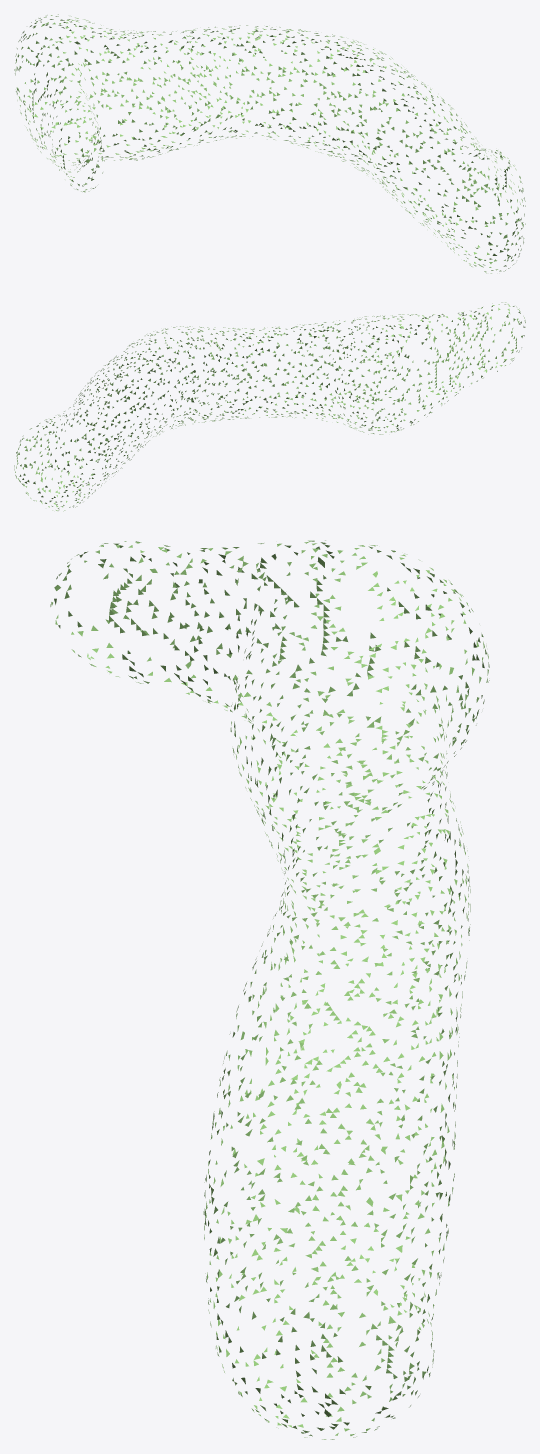
The model's file is morph_014.glb.
3 renders of one model, top to bottom at view 1: azimuth 30°, elevation 25°; view 2: azimuth 150°, elevation 25°; view 3: azimuth 270°, elevation 25°, orthographic. The views are drawn at different scales.
Size of the model in its own units: 103 by 63.55 by 45.55.
